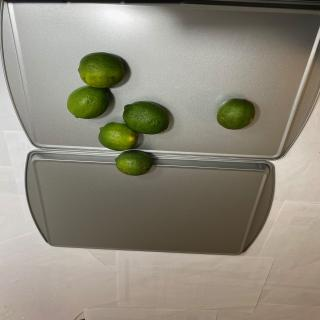Lemon: (78, 52, 124, 88), (122, 101, 170, 134), (66, 86, 110, 120), (216, 98, 256, 130), (98, 121, 139, 151), (114, 150, 153, 176)
